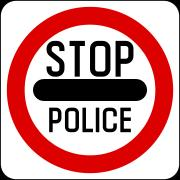Stop: (10, 17, 167, 170)
